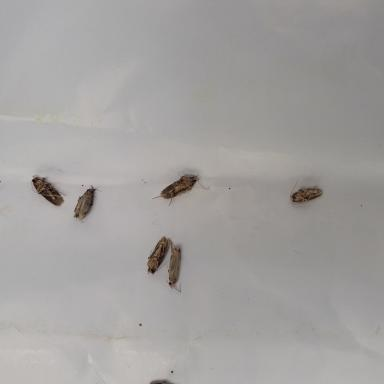pbw: (151, 170, 211, 206), (144, 233, 172, 275), (29, 174, 66, 204), (165, 243, 186, 292), (72, 185, 101, 220), (287, 178, 324, 204)
